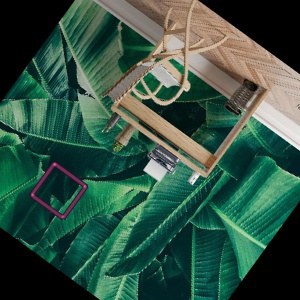square: (28, 161, 88, 221)
